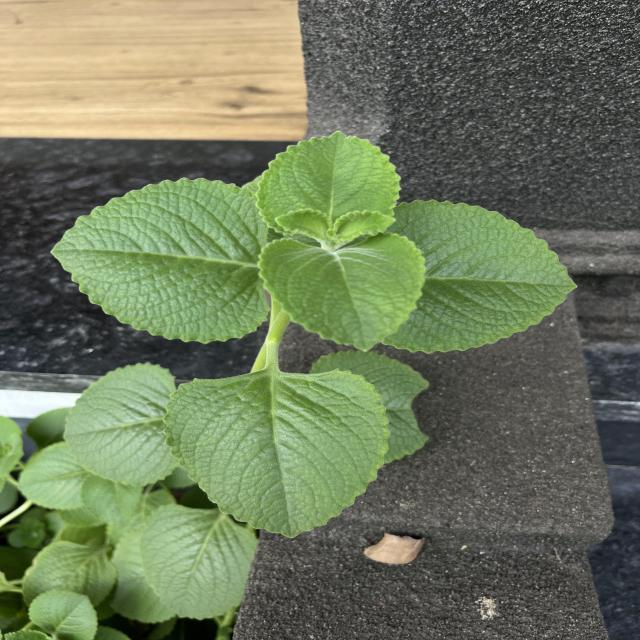Plectranthus barbatus: (161, 368, 393, 540), (49, 176, 274, 346), (392, 198, 580, 356), (255, 230, 428, 354), (254, 130, 405, 240), (63, 360, 178, 488), (139, 502, 259, 621), (28, 588, 98, 640)
